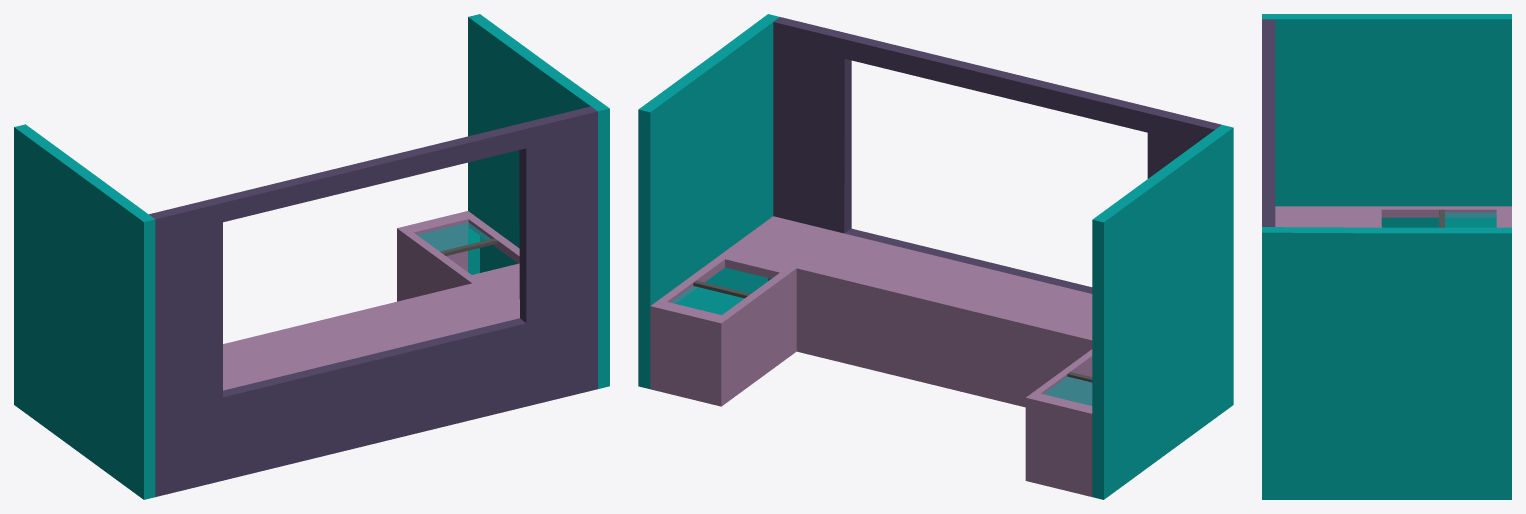
Rendered from SC_SnowConeStand_FBX.fbx.
The picture shows the model from 3 angles, left to right: view 1: azimuth 30°, elevation 25°; view 2: azimuth 150°, elevation 25°; view 3: azimuth 270°, elevation 25°; orthographic projection. The views are drawn at different scales.
Visible parts, largest first — view 1: Stand; view 2: Stand; view 3: Stand.
Part boxes in pixels (box(x1,y1,x2,y2)): Stand: box(14, 14, 609, 499); Stand: box(638, 14, 1233, 499); Stand: box(1262, 14, 1511, 499).
Size of the model in its own units: 5.27 by 3 by 2.54.
